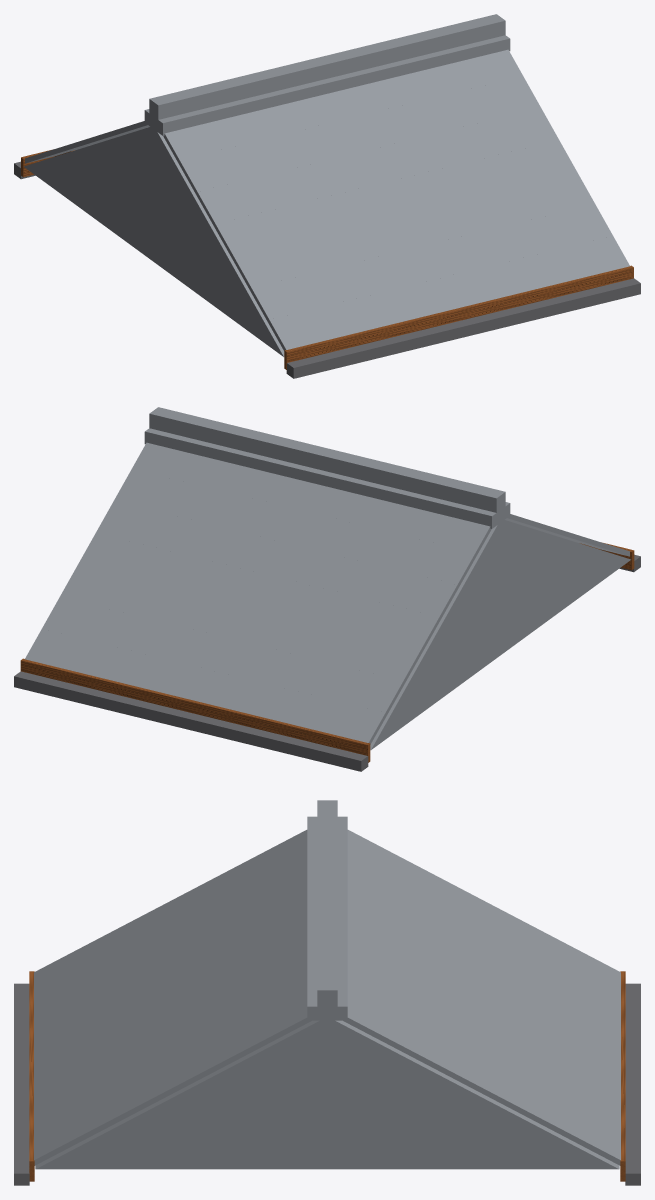
The model's file is distillery-and-bonded-warehouse-slate-roof-section-99afa97a.glb.
3 views of the same model, one above another, from view 1: azimuth 30°, elevation 25°; view 2: azimuth 150°, elevation 25°; view 3: azimuth 270°, elevation 25° (orthographic). The views are drawn at different scales.
Visible parts, largest first — view 1: slate-roof-section-slate, slate-roof-section-iron, slate-roof-section-timber; view 2: slate-roof-section-slate, slate-roof-section-iron, slate-roof-section-timber; view 3: slate-roof-section-slate, slate-roof-section-iron, slate-roof-section-timber.
Boxes of the visible parts, x1,y1,x2,y2 form: slate-roof-section-slate: (24, 14, 629, 356); slate-roof-section-iron: (14, 161, 640, 378); slate-roof-section-timber: (21, 150, 633, 369); slate-roof-section-slate: (25, 407, 630, 750); slate-roof-section-iron: (14, 554, 640, 771); slate-roof-section-timber: (20, 543, 634, 762); slate-roof-section-slate: (34, 800, 620, 1169); slate-roof-section-iron: (14, 983, 640, 1185); slate-roof-section-timber: (29, 971, 625, 1181).
Size of the model in its own units: 4 by 1.92 by 5.58.
3 materials, 1 textured.
